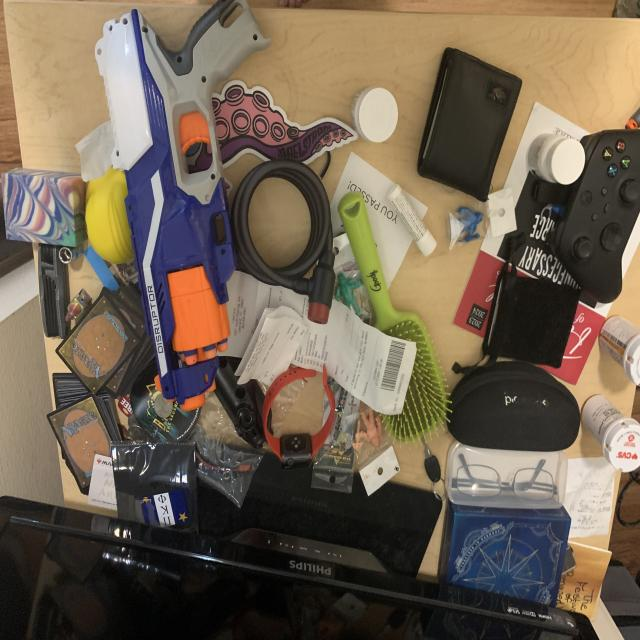nerf-maverik: (79, 0, 280, 416)
